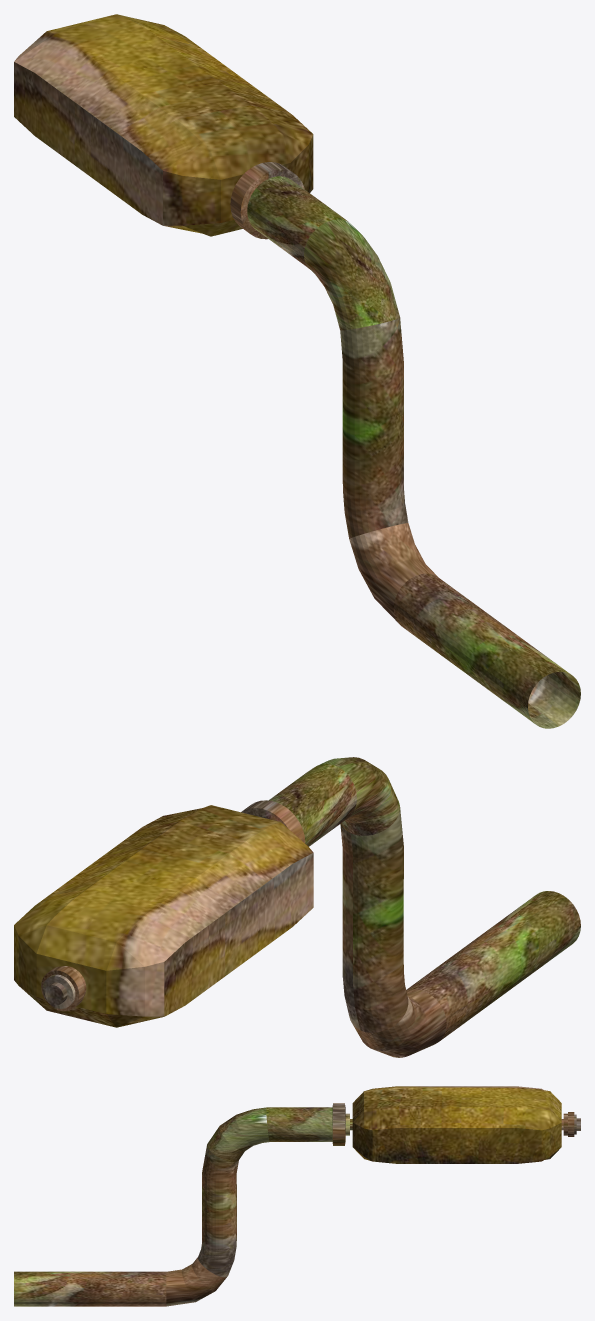
Rendered from manivelletxt.glb.
3 renders of one model, top to bottom at view 1: azimuth 30°, elevation 25°; view 2: azimuth 150°, elevation 25°; view 3: azimuth 270°, elevation 25°, orthographic. The views are drawn at different scales.
Visible parts, largest first — view 1: Cylinder, Cube; view 2: Cube, Cylinder; view 3: Cylinder, Cube.
Part boxes in pixels (<box>): Cylinder: <box>230,162,580,728</box>; Cube: <box>14,14,313,236</box>; Cube: <box>14,805,313,1027</box>; Cylinder: <box>41,757,580,1057</box>; Cylinder: <box>14,1103,580,1306</box>; Cube: <box>352,1086,561,1163</box>.
Bounding box in the file's own units: 0.5761 × 1.34 × 3.32.
2 materials, 2 textured.
